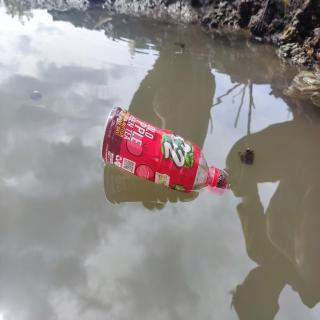bottle: (99, 105, 230, 203)
